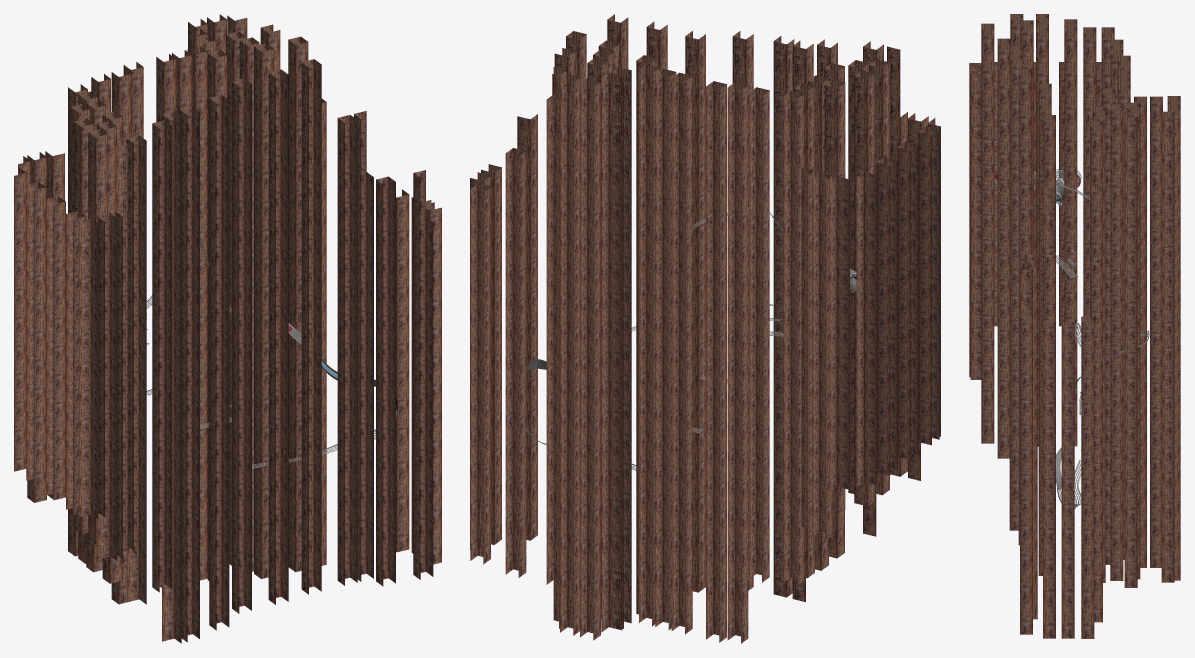
The model's file is Track.obj.
The picture shows the model from 3 angles, left to right: view 1: azimuth 30°, elevation 25°; view 2: azimuth 150°, elevation 25°; view 3: azimuth 270°, elevation 25°; orthographic projection. The views are drawn at different scales.
Size of the model in its own units: 6103 by 7704 by 3133.
Materials: 23 (23 with a texture image).
